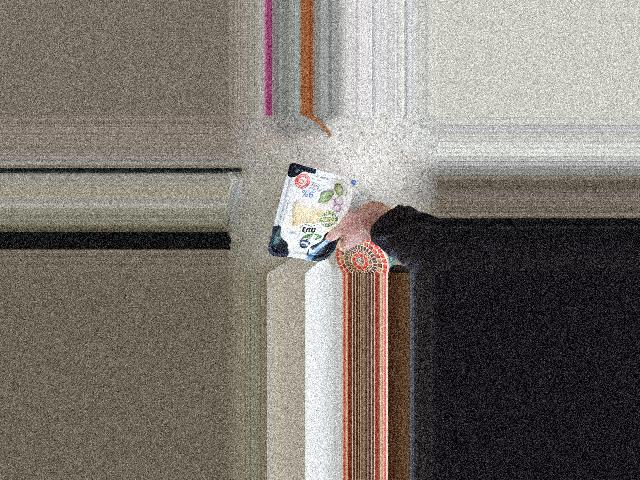cheese: (267, 168, 355, 262)
